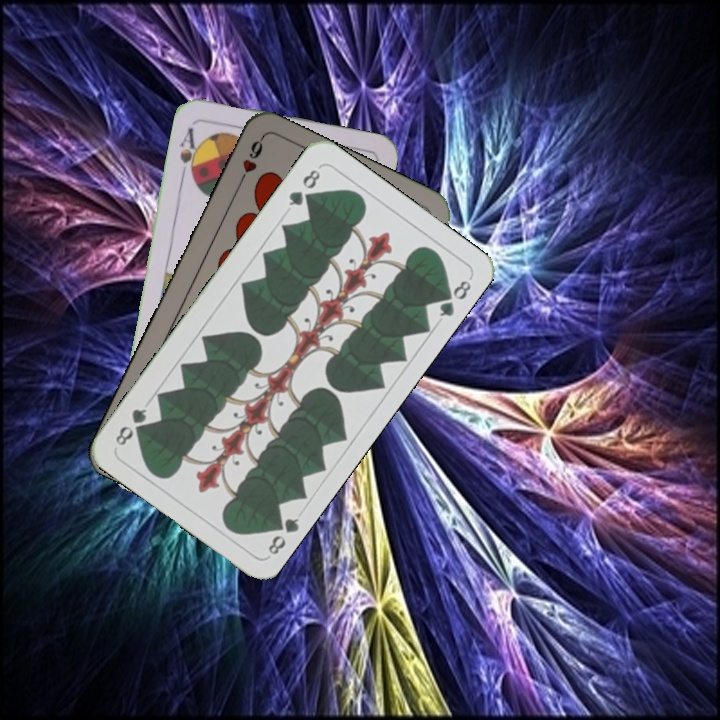G8: (264, 511, 302, 558), (284, 165, 323, 209)
H9: (233, 134, 266, 190)
SA: (175, 124, 203, 182)
